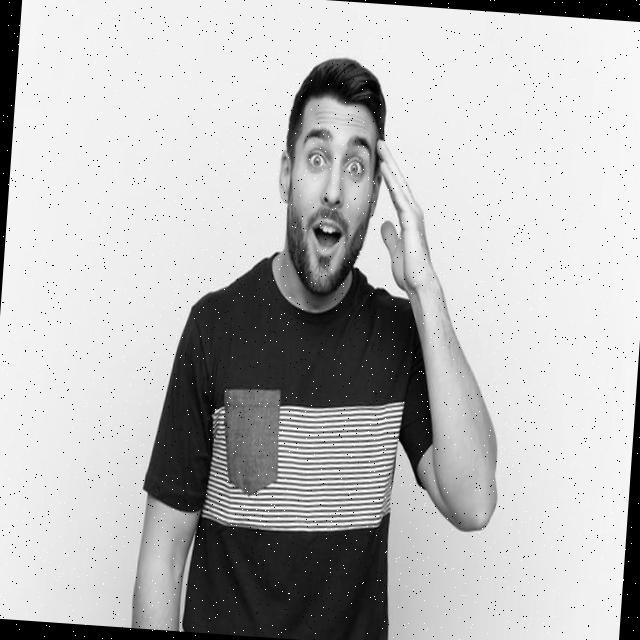Surprised: (280, 96, 380, 300)
